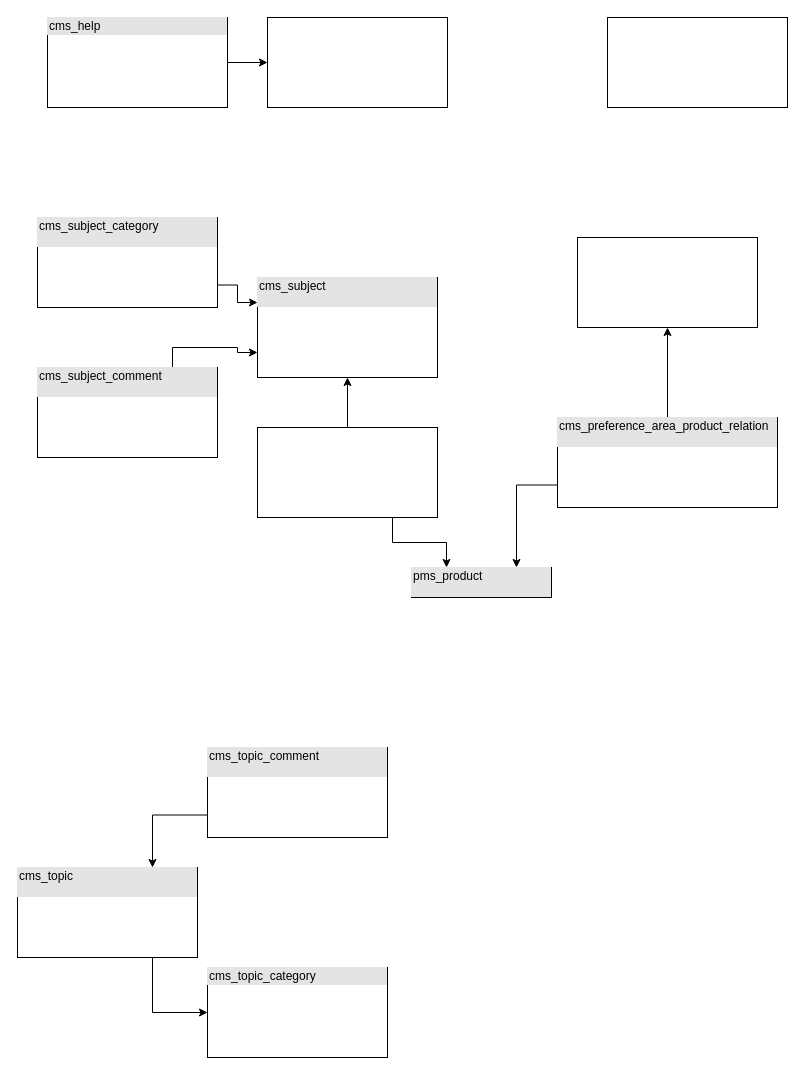
Some shapes in this 805 by 1075 pixel diagram are drawn without their labels. Here are the shapes that lost their labels. From the top down, the centre of each, then its label:
the point at 357,62: cms_help_category
the point at 697,62: cms_member_report
the point at 667,282: cms_preference_area
the point at 347,472: cms_subject_product_relation
